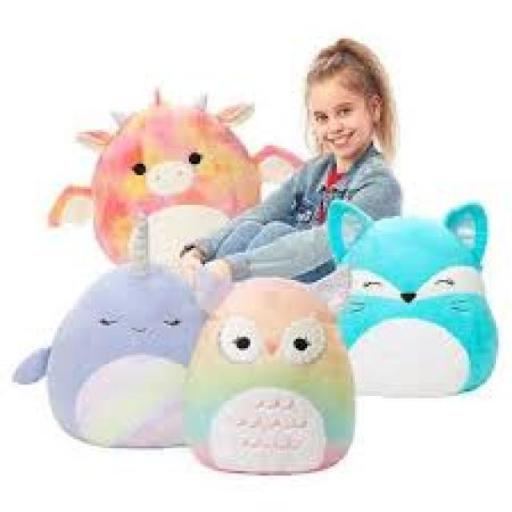baby: (181, 40, 401, 282)
